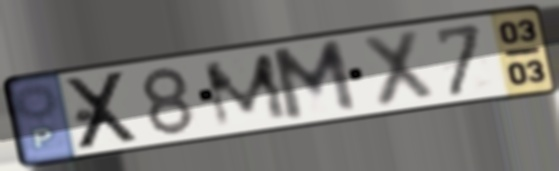7: (434, 20, 485, 98)
8: (136, 64, 200, 138)
M: (267, 36, 362, 125), (199, 49, 294, 131)
X: (63, 67, 144, 153), (358, 26, 439, 110)
